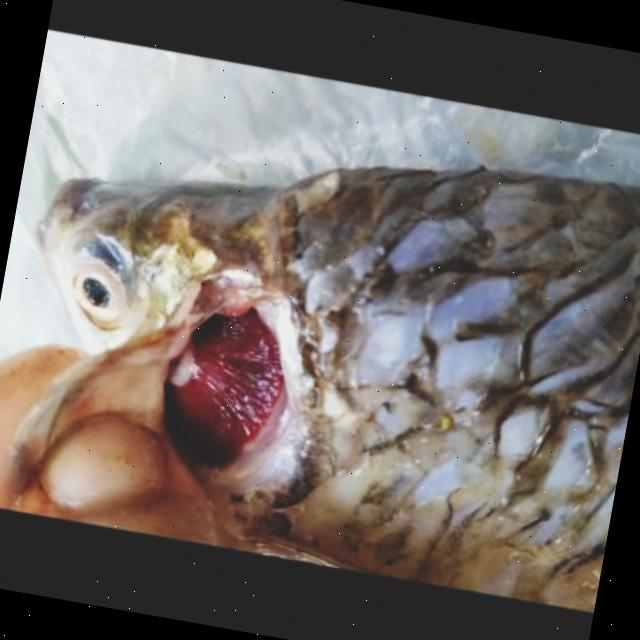Flavobacterium -Bacterial Gill Disease-: (0, 168, 640, 610), (31, 160, 640, 612)
